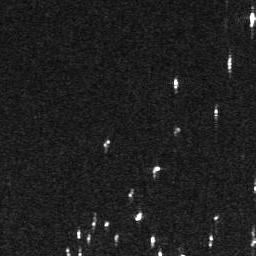ship: (249, 11, 256, 30), (227, 54, 233, 72), (148, 236, 157, 247), (151, 165, 161, 174), (135, 212, 144, 222), (173, 77, 179, 90), (213, 107, 219, 118), (104, 139, 111, 148), (76, 230, 82, 239), (104, 220, 110, 228), (86, 234, 91, 243)
